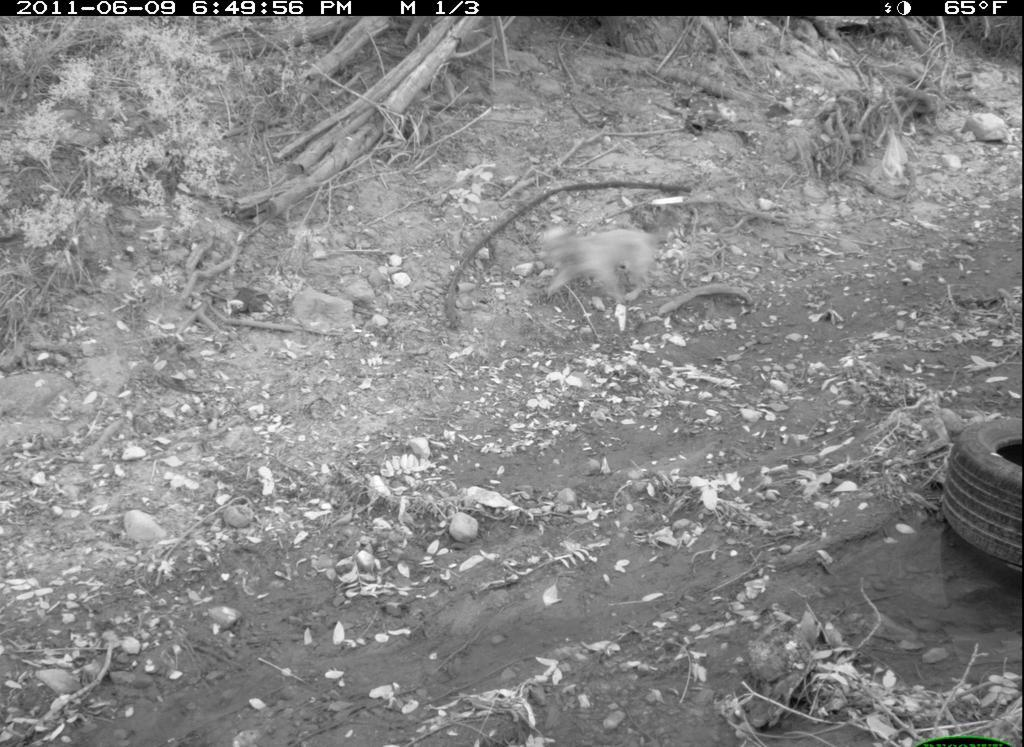dog: (527, 203, 680, 309)
